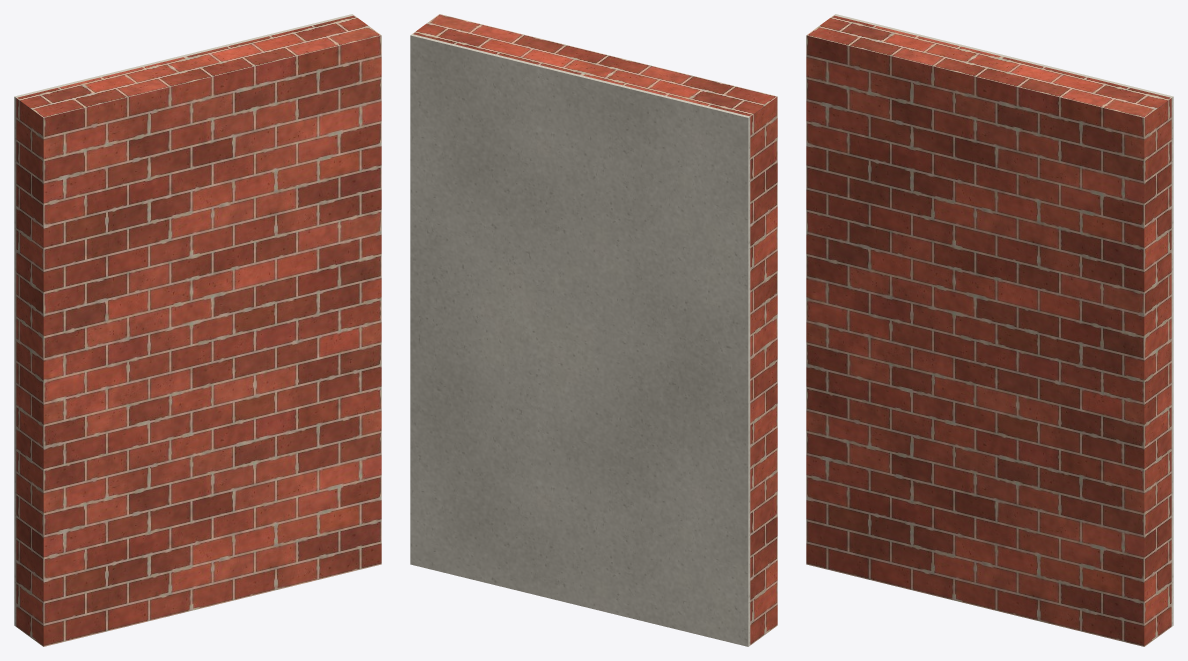
File: wall_a2_plain.glb
3 renders of one model, left to right at view 1: azimuth 30°, elevation 25°; view 2: azimuth 150°, elevation 25°; view 3: azimuth 330°, elevation 25°, orthographic.
Visible parts, largest first — view 1: wall_a2_plain_brick, wall_a2_plain_plaster; view 2: wall_a2_plain_plaster, wall_a2_plain_brick; view 3: wall_a2_plain_brick, wall_a2_plain_plaster.
Part boxes in pixels (bbox=[...]): wall_a2_plain_brick: bbox=[16, 15, 381, 646]; wall_a2_plain_plaster: bbox=[14, 14, 353, 626]; wall_a2_plain_plaster: bbox=[410, 34, 750, 646]; wall_a2_plain_brick: bbox=[412, 14, 777, 645]; wall_a2_plain_brick: bbox=[806, 15, 1171, 646]; wall_a2_plain_plaster: bbox=[834, 14, 1173, 626].
Size of the model in its own units: 2 by 2.99 by 0.3.
Materials: 2 (2 with a texture image).
